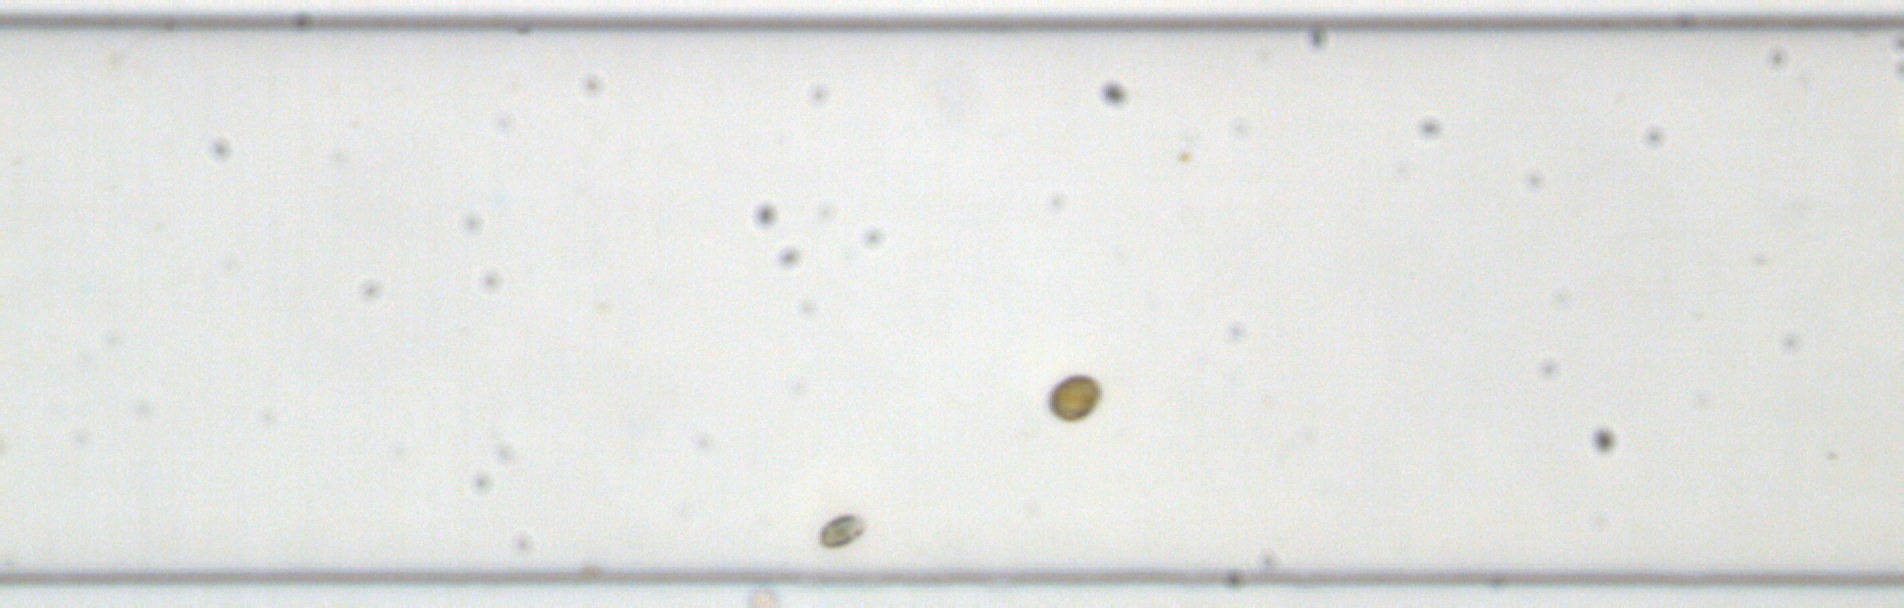Dunaliella salina: (815, 510, 869, 553)
Effrenium: (1042, 371, 1104, 424)
